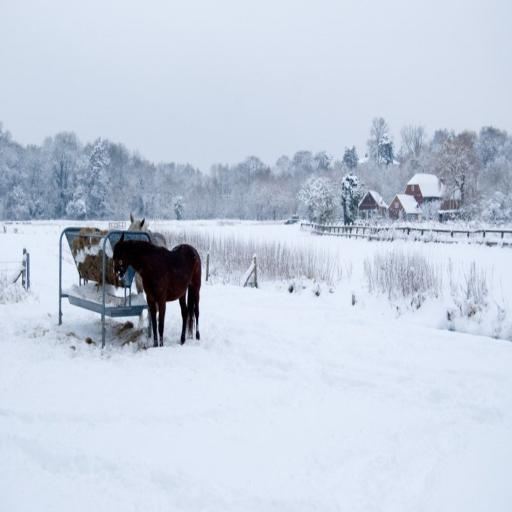horse: (112, 232, 204, 348), (128, 208, 168, 321)
